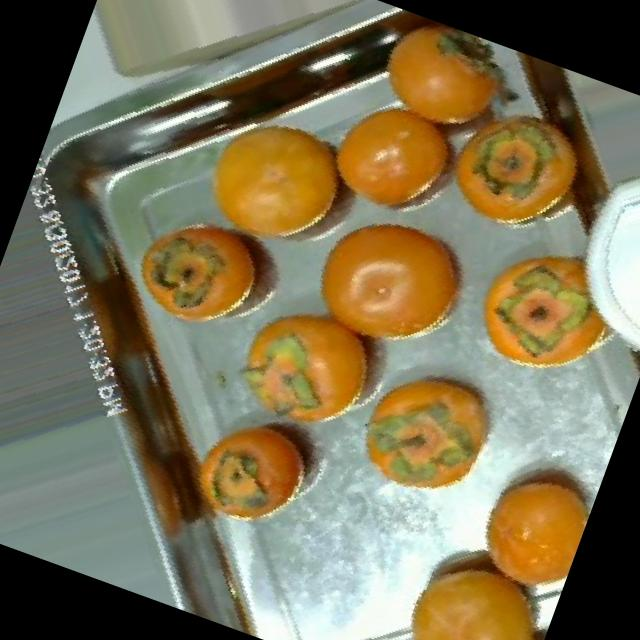Fruit: (160, 72, 394, 296), (274, 175, 508, 393), (94, 178, 315, 378), (200, 272, 420, 470), (442, 209, 640, 412), (330, 336, 528, 532), (294, 68, 498, 253), (160, 382, 346, 568), (344, 2, 541, 167), (440, 433, 604, 618), (357, 510, 571, 640)
